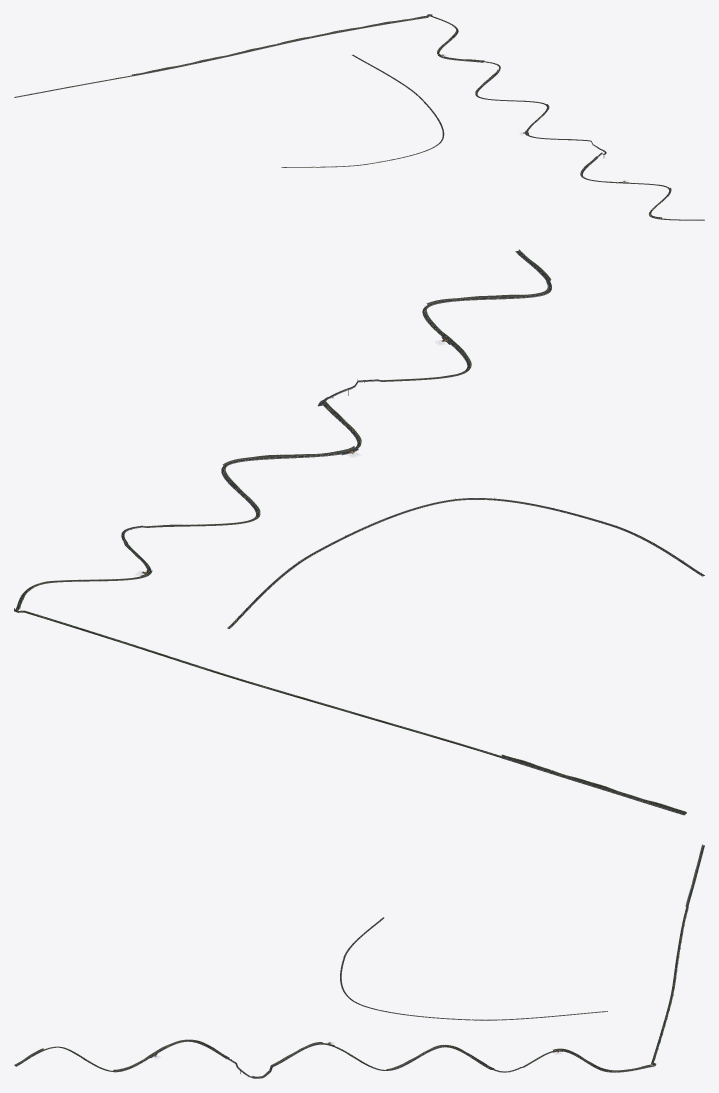
Rendered from deo_ql20_trai_mat_cau_dat_cloud_deck.glb.
The picture shows the model from 3 angles, top to bottom: view 1: azimuth 30°, elevation 25°; view 2: azimuth 150°, elevation 25°; view 3: azimuth 270°, elevation 25°; orthographic projection. The views are drawn at different scales.
Parts seen in each view (by area): view 1: DeoCauDat_QL20_Granite_Taluy_Retaining_Walls, DeoCauDat_QL20_Asphalt_Carriageway, DeoCauDat_QL20_Sculpted_Mountain_Rock_Cliffs, DeoCauDat_QL20_Cliff_Bench_Pine_Moss; view 2: DeoCauDat_QL20_Asphalt_Carriageway, DeoCauDat_QL20_Granite_Taluy_Retaining_Walls, DeoCauDat_QL20_Sculpted_Mountain_Rock_Cliffs, DeoCauDat_QL20_Cliff_Bench_Pine_Moss; view 3: DeoCauDat_QL20_Asphalt_Carriageway, DeoCauDat_QL20_Granite_Taluy_Retaining_Walls, DeoCauDat_QL20_Cliff_Bench_Pine_Moss, DeoCauDat_QL20_Sculpted_Mountain_Rock_Cliffs.
Part boxes in pixels (<box>): DeoCauDat_QL20_Granite_Taluy_Retaining_Walls: <box>14,15,702,220</box>; DeoCauDat_QL20_Asphalt_Carriageway: <box>14,15,703,219</box>; DeoCauDat_QL20_Sculpted_Mountain_Rock_Cliffs: <box>15,14,704,220</box>; DeoCauDat_QL20_Cliff_Bench_Pine_Moss: <box>16,14,695,220</box>; DeoCauDat_QL20_Asphalt_Carriageway: <box>15,251,704,814</box>; DeoCauDat_QL20_Granite_Taluy_Retaining_Walls: <box>15,250,704,815</box>; DeoCauDat_QL20_Sculpted_Mountain_Rock_Cliffs: <box>14,250,686,813</box>; DeoCauDat_QL20_Cliff_Bench_Pine_Moss: <box>14,249,686,812</box>; DeoCauDat_QL20_Asphalt_Carriageway: <box>15,845,704,1078</box>; DeoCauDat_QL20_Granite_Taluy_Retaining_Walls: <box>14,846,704,1078</box>; DeoCauDat_QL20_Cliff_Bench_Pine_Moss: <box>14,844,702,1076</box>; DeoCauDat_QL20_Sculpted_Mountain_Rock_Cliffs: <box>14,845,702,1077</box>.
Bounding box in the file's own units: 4086 × 114 × 5248.
